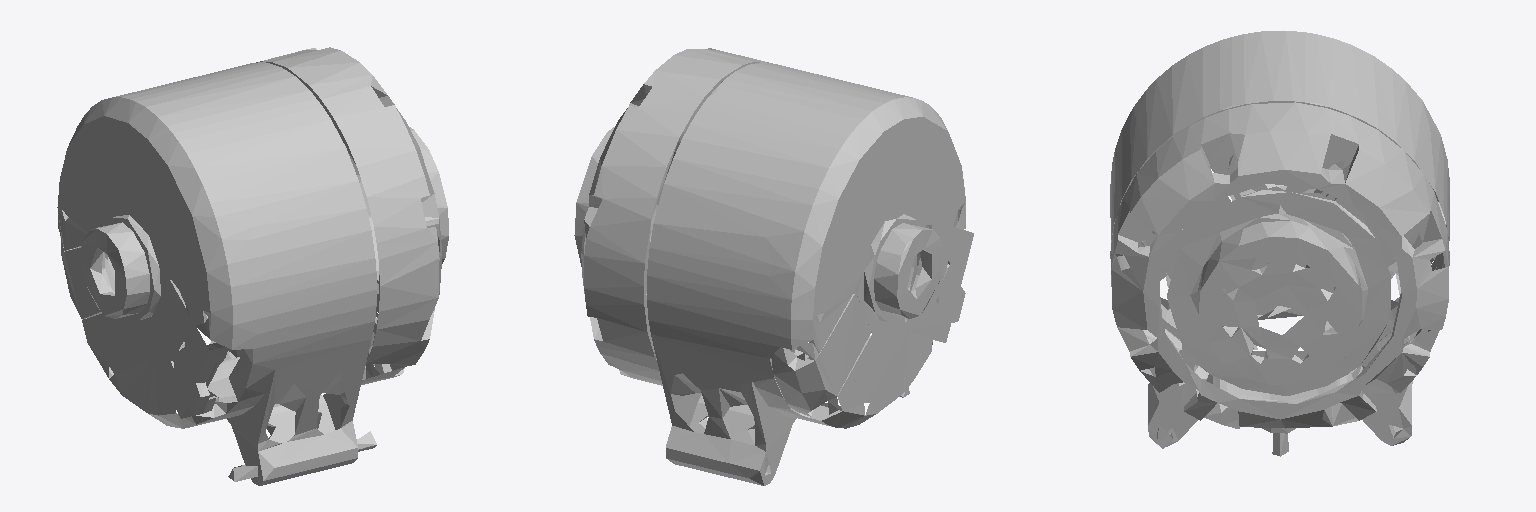
File: sim_ecub_l_shoulder_1.obj
3 renders of one model, left to right at view 1: azimuth 30°, elevation 25°; view 2: azimuth 150°, elevation 25°; view 3: azimuth 270°, elevation 25°, orthographic.
Size of the model in its own units: 64.41 by 69.81 by 62.08.